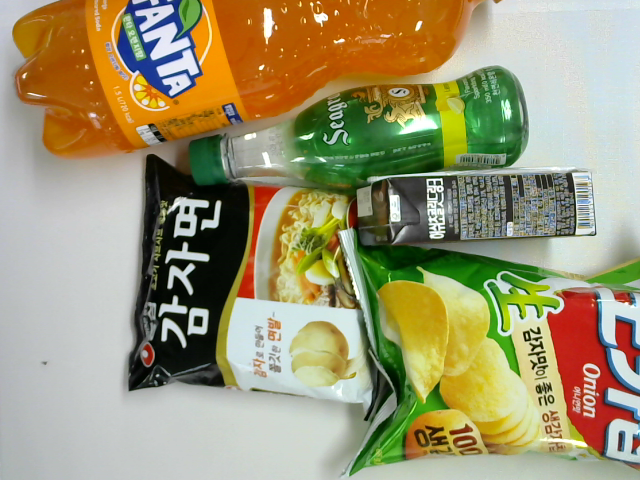Hush_Choco_Drink: (355, 165, 598, 248)
Hwanta_Orange_1.5L: (11, 1, 505, 161)
Pocachip_Onion: (336, 227, 640, 479)
Potato: (127, 153, 375, 406)
Seagram_Lemon_Carbonated_Water: (188, 64, 531, 190)
